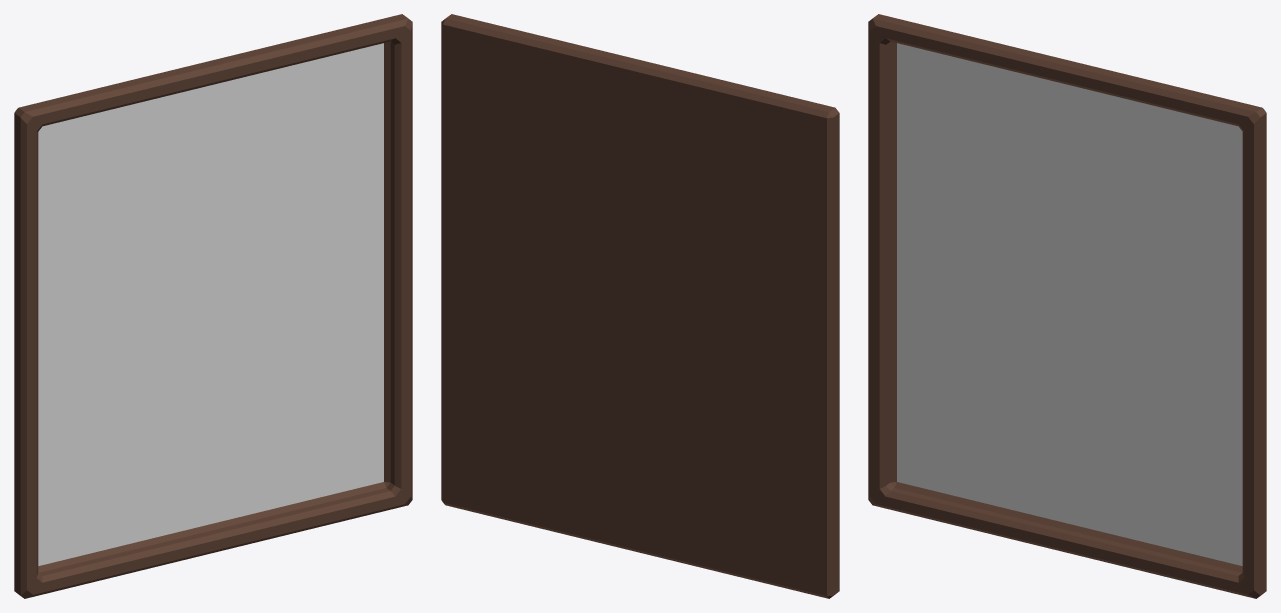
The model's file is SquareMirror.fbx.
3 renders of one model, left to right at view 1: azimuth 30°, elevation 25°; view 2: azimuth 150°, elevation 25°; view 3: azimuth 330°, elevation 25°, orthographic.
Visible parts, largest first — view 1: Square Mirror; view 2: Square Mirror; view 3: Square Mirror.
Part boxes in pixels (x1,y1,x2,y2): Square Mirror: (14,14,412,598); Square Mirror: (441,14,839,598); Square Mirror: (868,14,1266,598).
Bounding box in the file's own units: 83.67 × 99.27 × 4.04.
